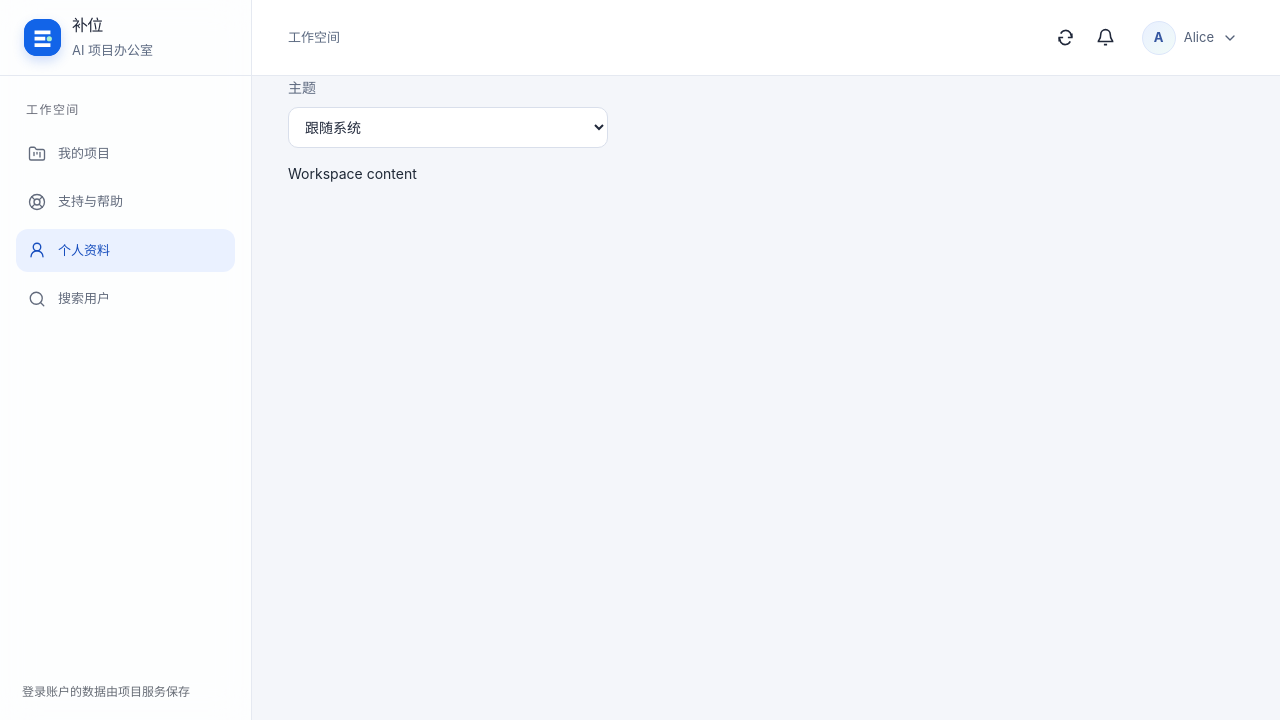
Test case: keeps toolbar and settings theme controls synchronized through the existing theme events
Step 1. Click the button with aria-label "个人资料菜单" → click(1190, 38), box [1136,16,1244,60]
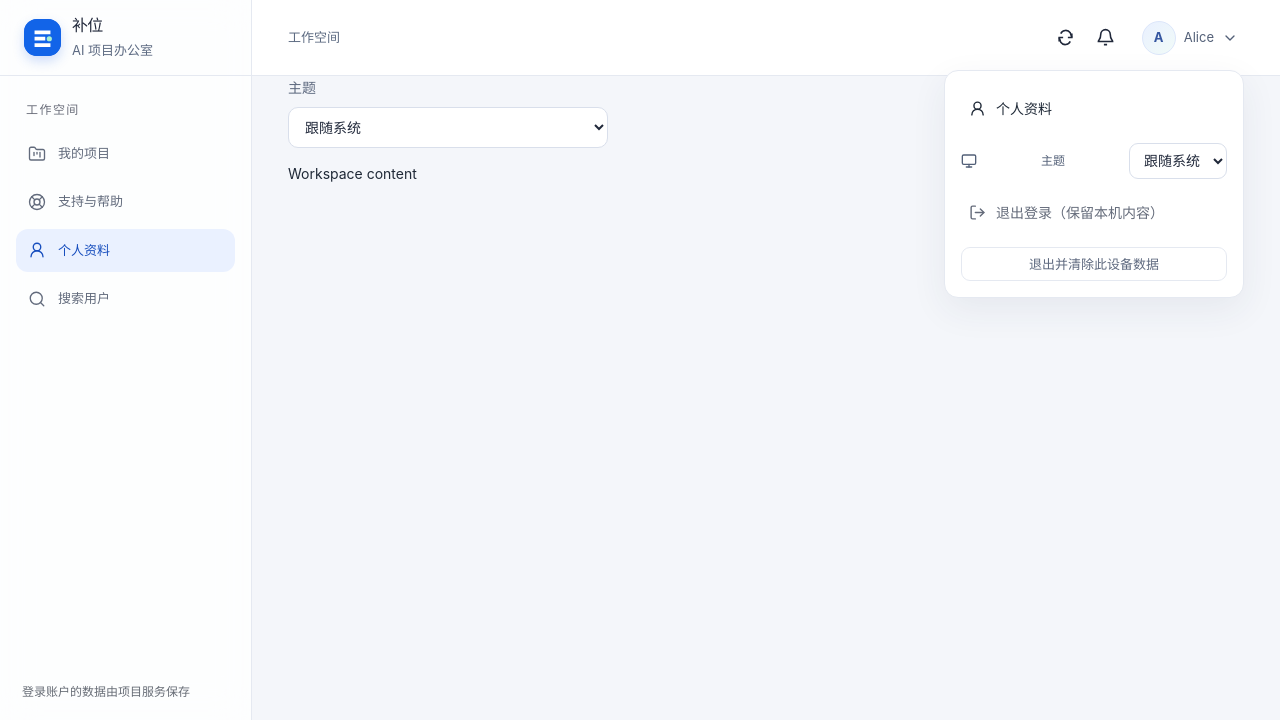
Expected: the 1st dropdown labelled "主题" shows "跟随系统", [288,107,608,148]
Expected: the number of dropdowns labelled "主题" is 2
Expected: the 2nd dropdown labelled "主题" shows "跟随系统"
Step 2. Select "深色" in the 2nd dropdown labelled "主题" → (1178, 160), box [1129,142,1227,178]
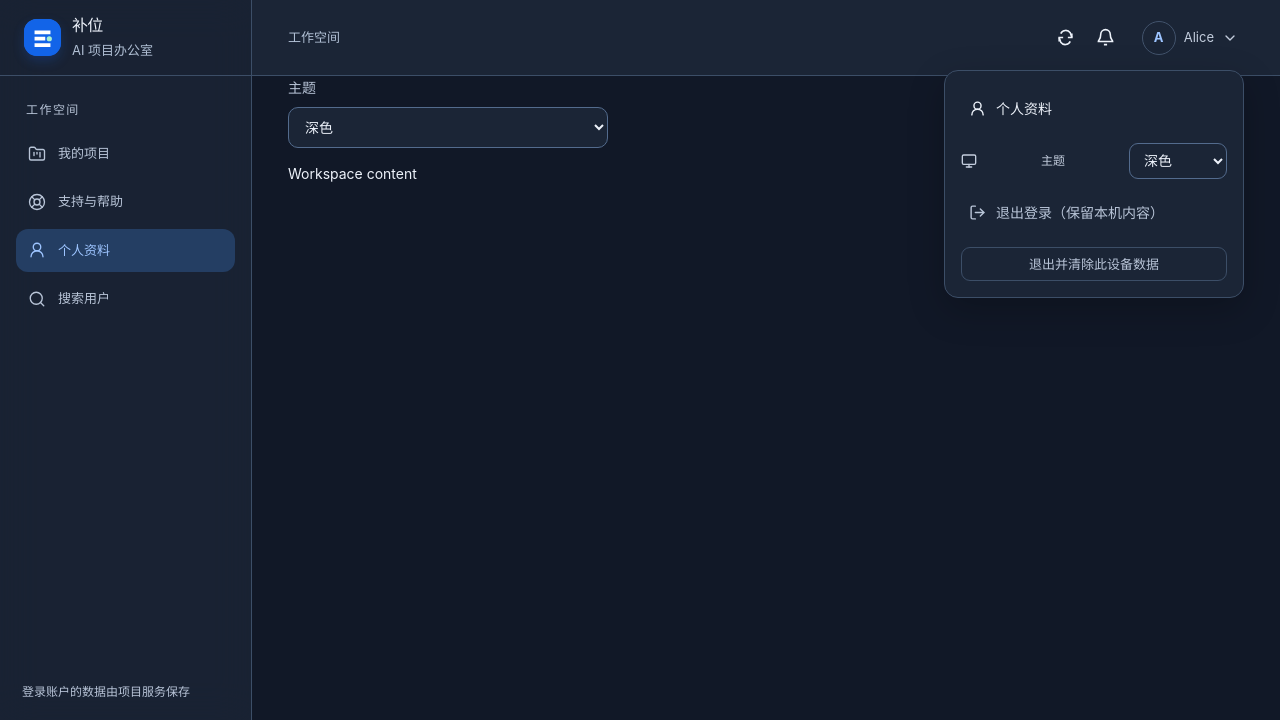
Expected: the 1st dropdown labelled "主题" shows "深色", [288,107,608,148]
